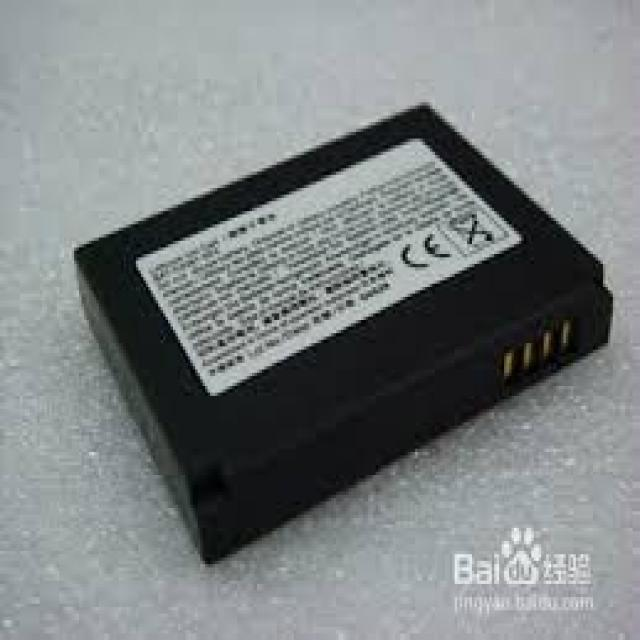non-organic waste: (74, 105, 613, 568)
